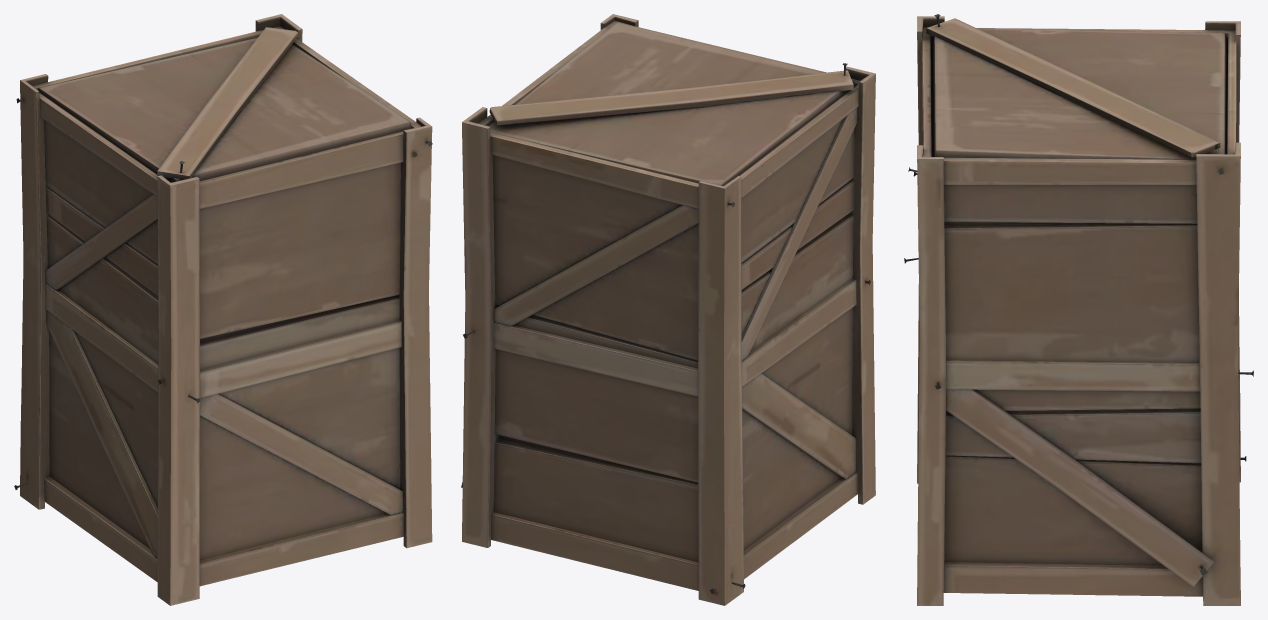
3 views of the same model, side by side, from view 1: azimuth 30°, elevation 25°; view 2: azimuth 150°, elevation 25°; view 3: azimuth 270°, elevation 25° (orthographic). The views are drawn at different scales.
Parts seen in each view (by area): view 1: body0_model0_lod0_mesh0; view 2: body0_model0_lod0_mesh0; view 3: body0_model0_lod0_mesh0.
Part boxes in pixels (<box>): body0_model0_lod0_mesh0: <box>14,14,432,605</box>; body0_model0_lod0_mesh0: <box>461,14,875,605</box>; body0_model0_lod0_mesh0: <box>904,14,1253,605</box>.
Bounding box in the file's own units: 82.31 × 117 × 79.69.
1 material, 1 textured.
